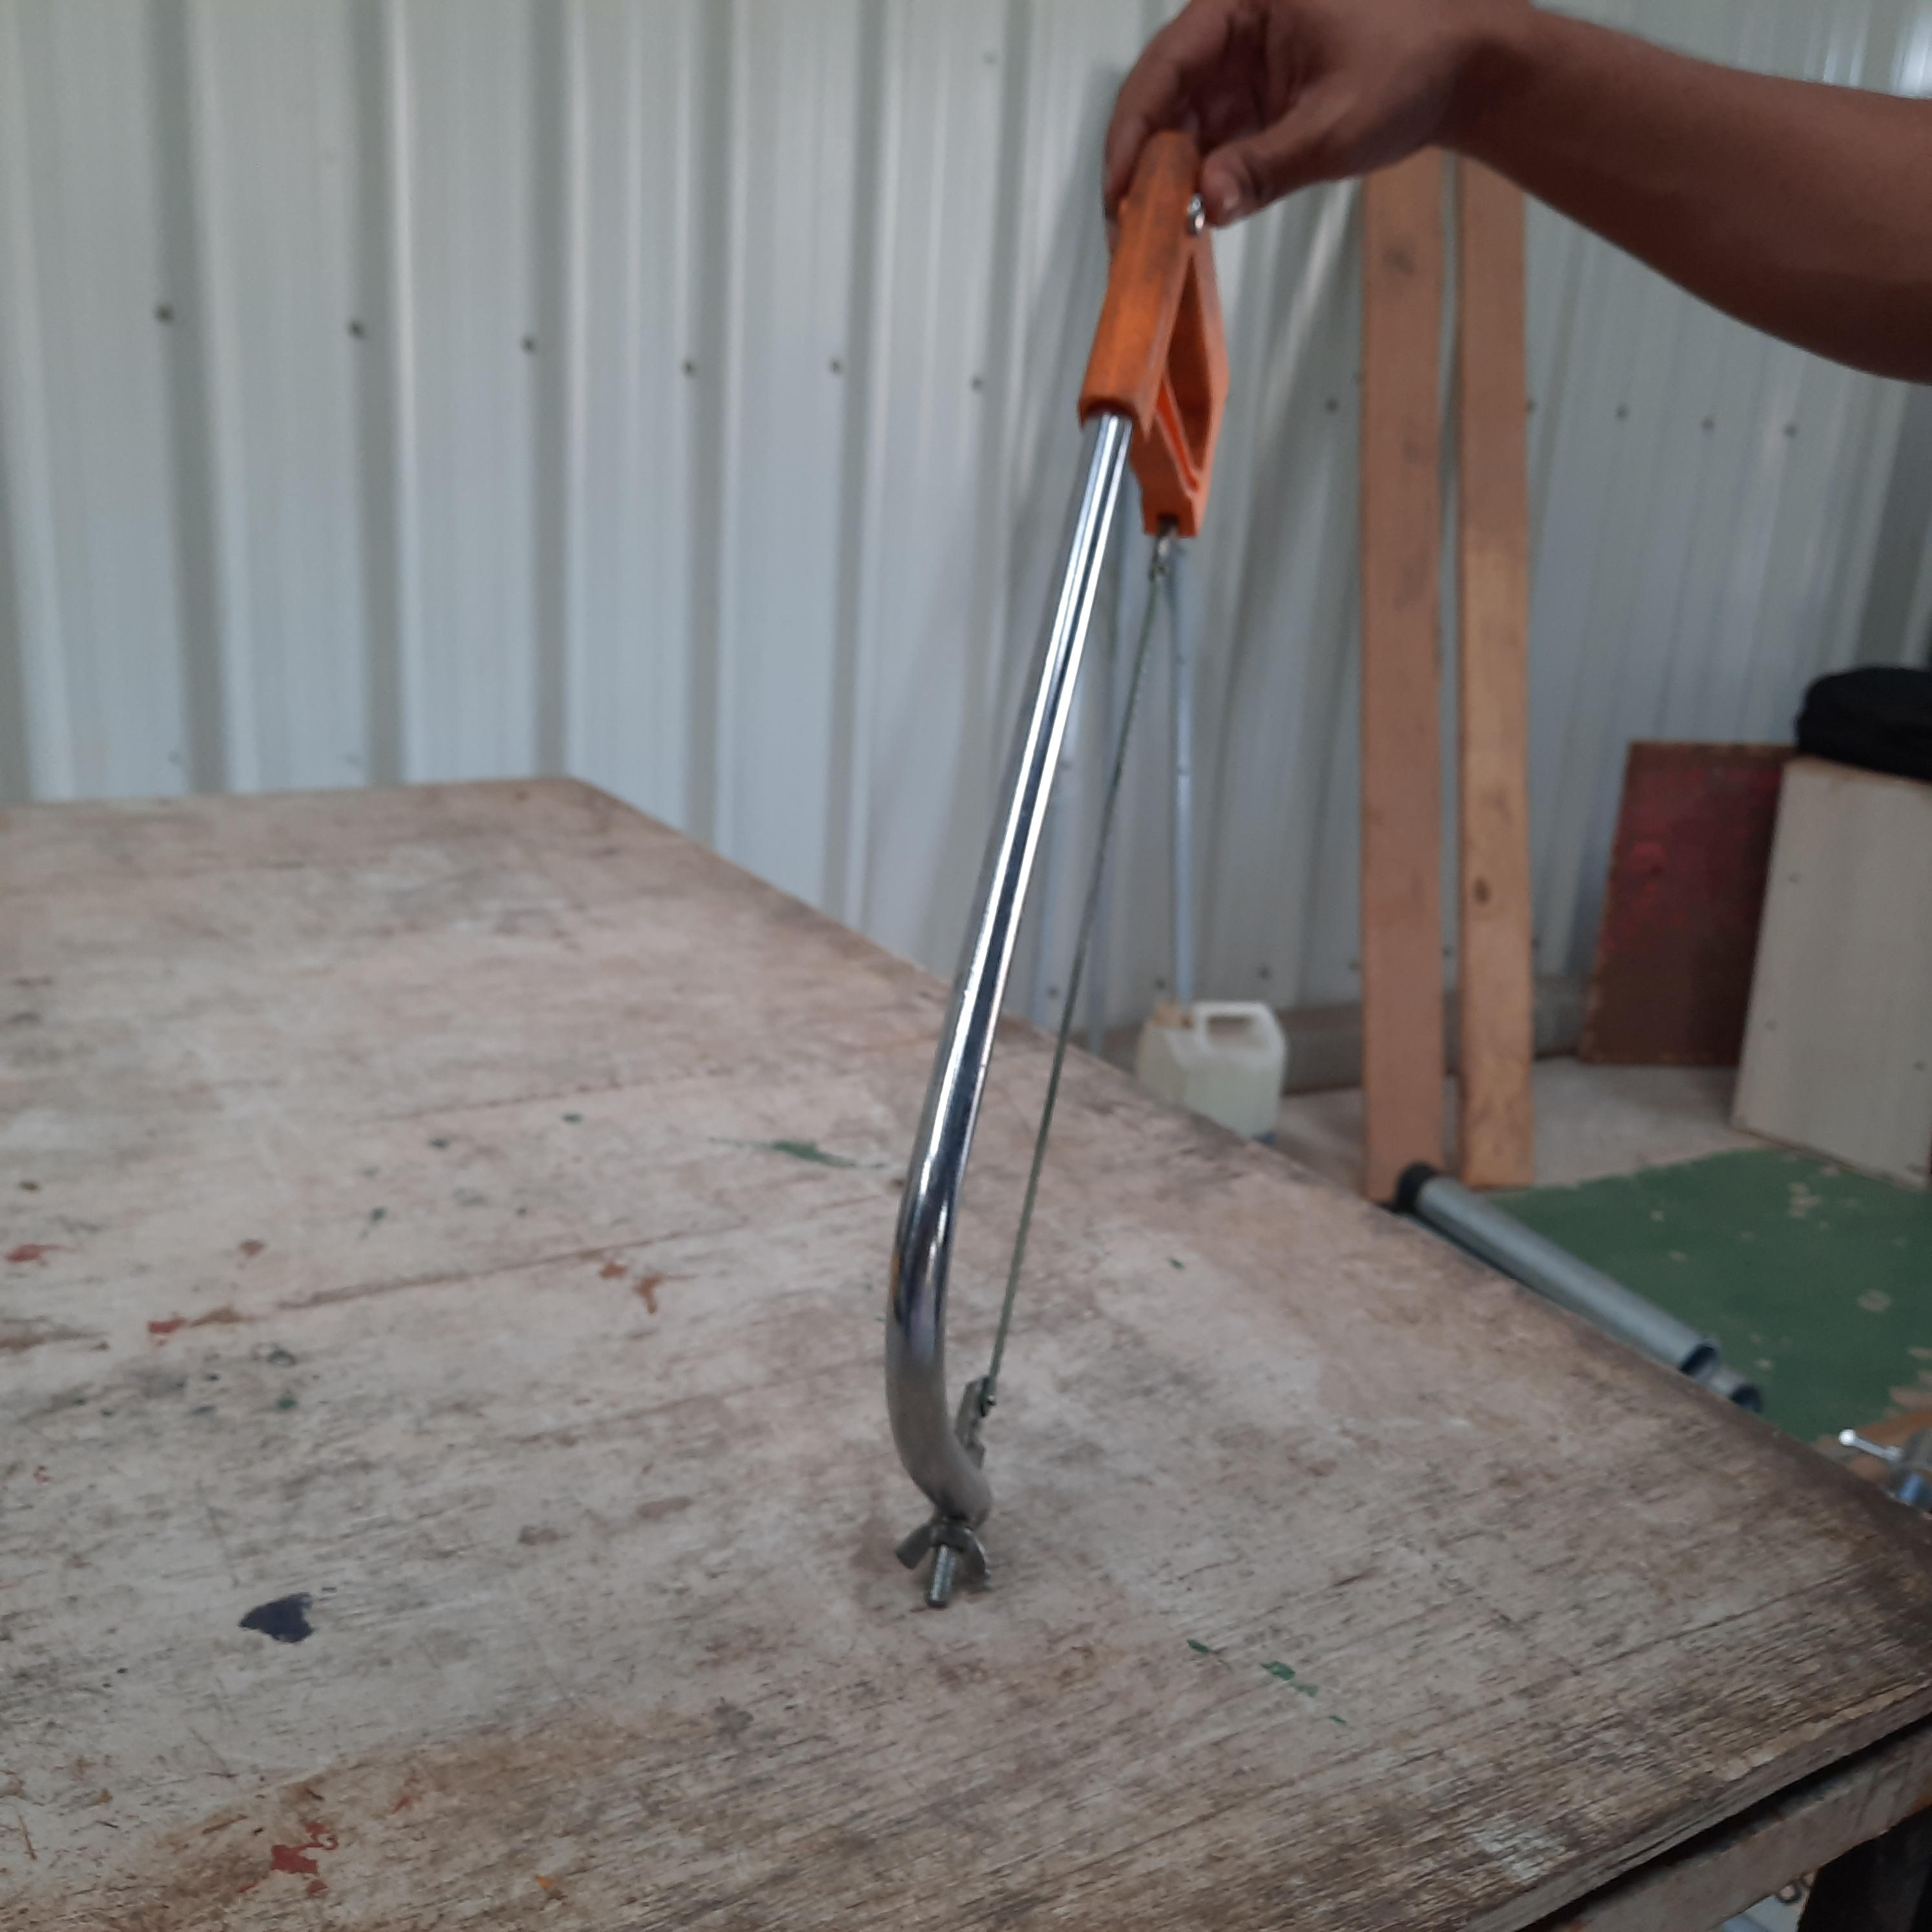Hexaframe: (839, 120, 1307, 1693)
